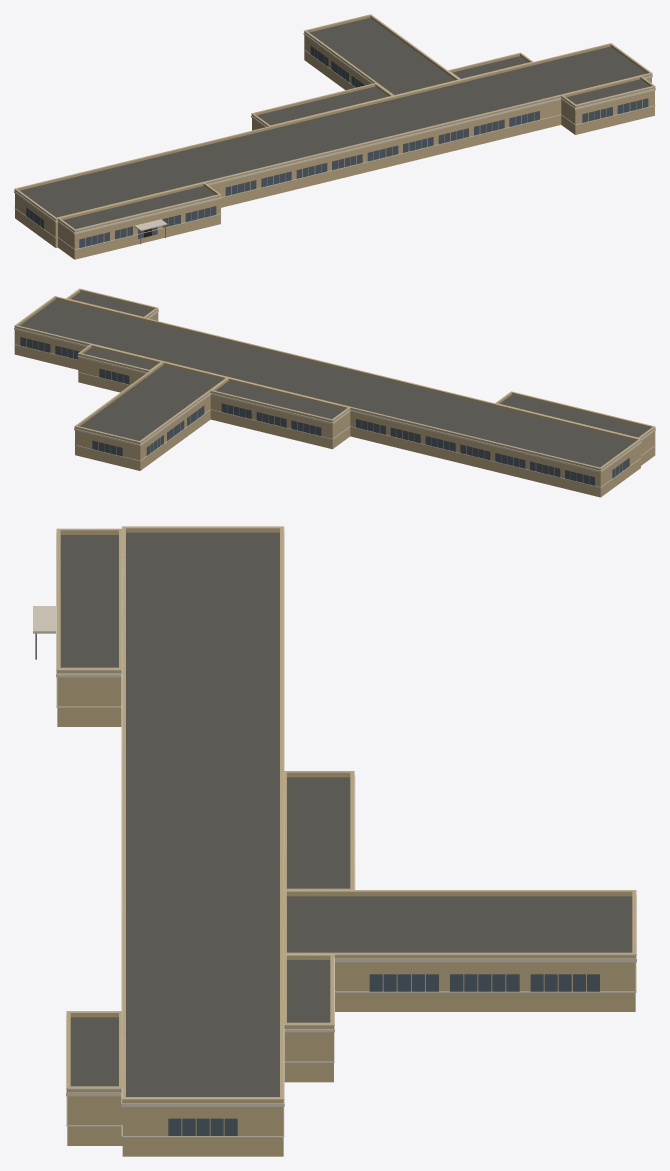
The model's file is pike-view-elementary-nlr.glb.
3 views of the same model, one above another, from view 1: azimuth 30°, elevation 25°; view 2: azimuth 150°, elevation 25°; view 3: azimuth 270°, elevation 25° (orthographic). The views are drawn at different scales.
Visible parts, largest first — view 1: pike_view_elementary_nlr; view 2: pike_view_elementary_nlr; view 3: pike_view_elementary_nlr.
Part boxes in pixels (x1,y1,x2,y2): pike_view_elementary_nlr: (14,14,655,259); pike_view_elementary_nlr: (14,288,655,497); pike_view_elementary_nlr: (33,526,636,1156).
Bounding box in the file's own units: 135 × 6.36 × 60.02.
